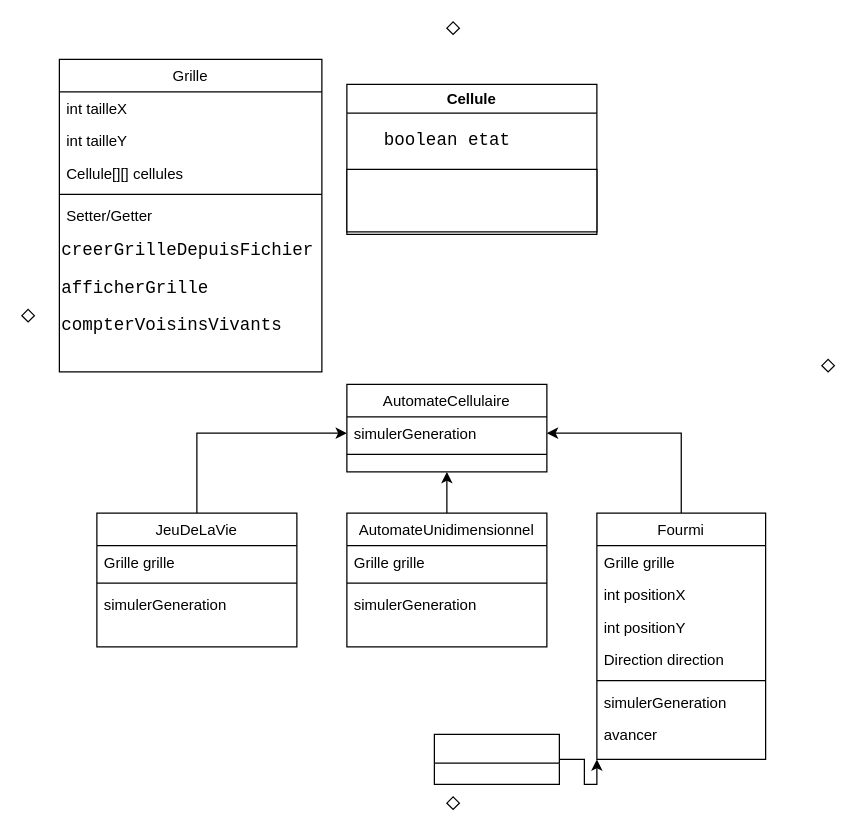
This 856x831 diagram has some shape labels left out. Here are the shapes that lost their labels. From the top down, the centre of each, then its label:
(x=471, y=200): getEtat setEtat
(x=496, y=758): Direction
